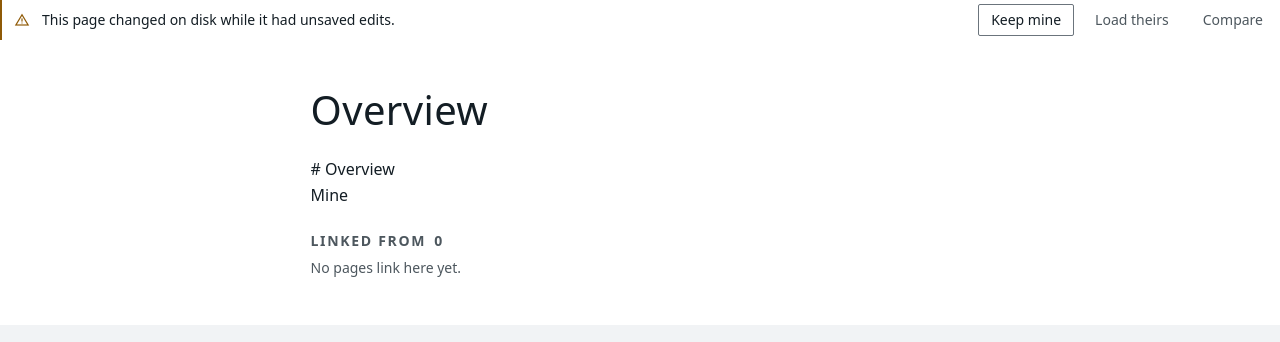
it: the conflict notice › offers Keep mine, which writes the editor's text over the version on disk
Expected: the message shows "This page changed on disk while it had unsaved edits.", [42, 10, 395, 29]
Click the button "Keep mine". click: (1026, 20)
box: [978, 4, 1074, 36]
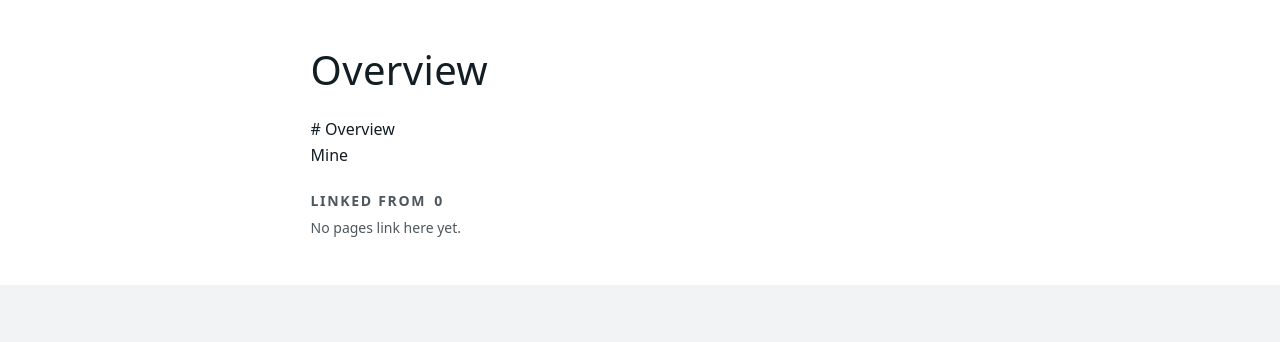
Expected: the message is gone
